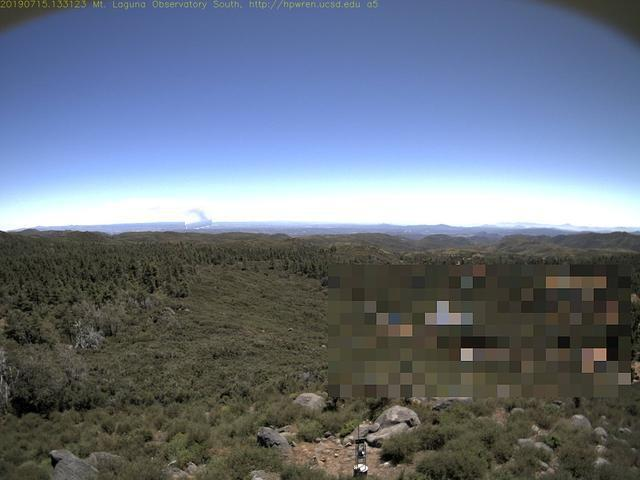smoke: (184, 204, 213, 230)
